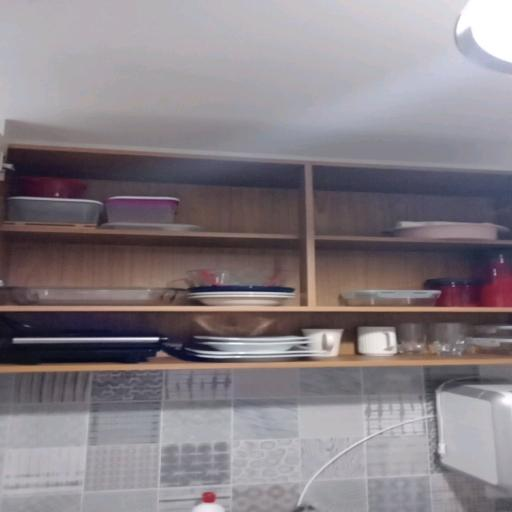road: (0, 355, 511, 373), (0, 224, 298, 248), (0, 305, 511, 313), (316, 236, 511, 251)
